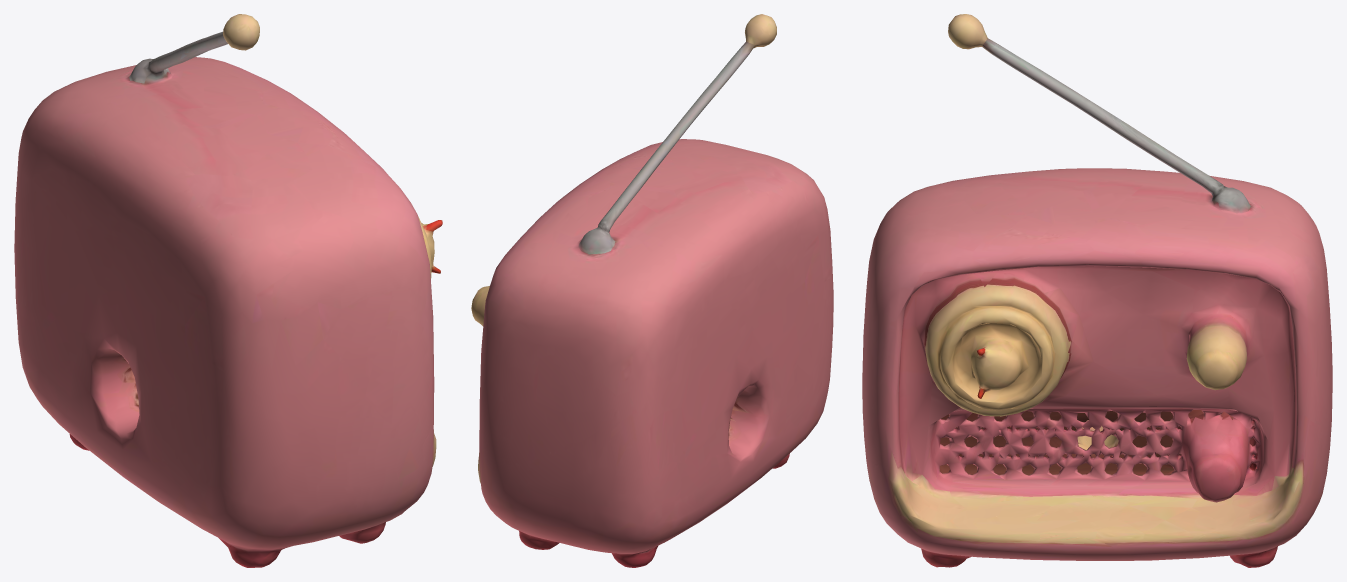
Rendered from keepsake-radio.glb.
3 views of the same model, side by side, from view 1: azimuth 30°, elevation 25°; view 2: azimuth 150°, elevation 25°; view 3: azimuth 270°, elevation 25° (orthographic). The views are drawn at different scales.
Parts seen in each view (by area): view 1: tripo_node_9824c77b-b2e9-405a-a02c-d8b538817401; view 2: tripo_node_9824c77b-b2e9-405a-a02c-d8b538817401; view 3: tripo_node_9824c77b-b2e9-405a-a02c-d8b538817401.
Part boxes in pixels (<box>): tripo_node_9824c77b-b2e9-405a-a02c-d8b538817401: <box>14,14,442,567</box>; tripo_node_9824c77b-b2e9-405a-a02c-d8b538817401: <box>471,14,833,567</box>; tripo_node_9824c77b-b2e9-405a-a02c-d8b538817401: <box>862,14,1332,567</box>.
Size of the model in its own units: 0.4997 by 0.9736 by 0.8311.
1 material, 1 textured.
